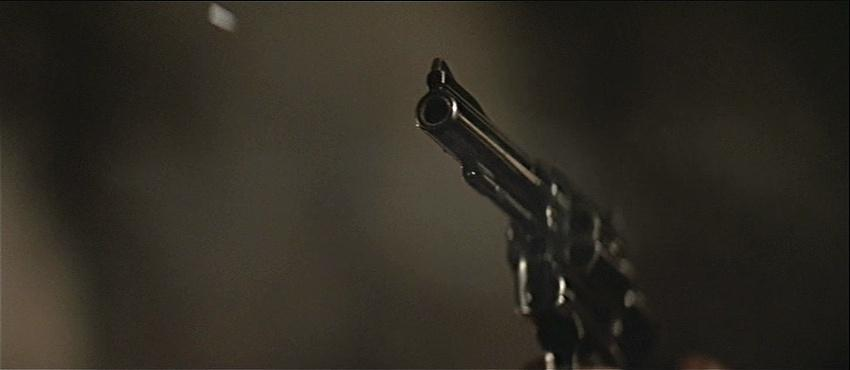gun: (378, 38, 652, 367)
